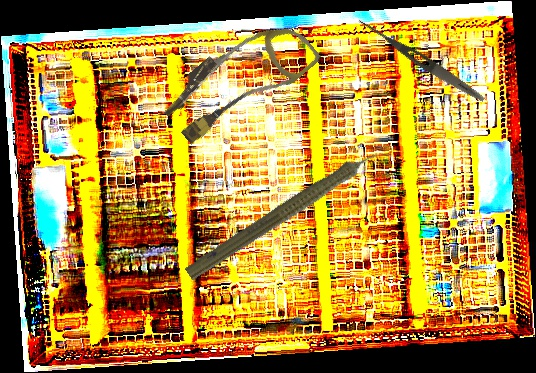Cannula: (155, 1, 323, 159)
Dressing Forceps: (354, 15, 488, 106)
Handpiece: (182, 136, 395, 289)
